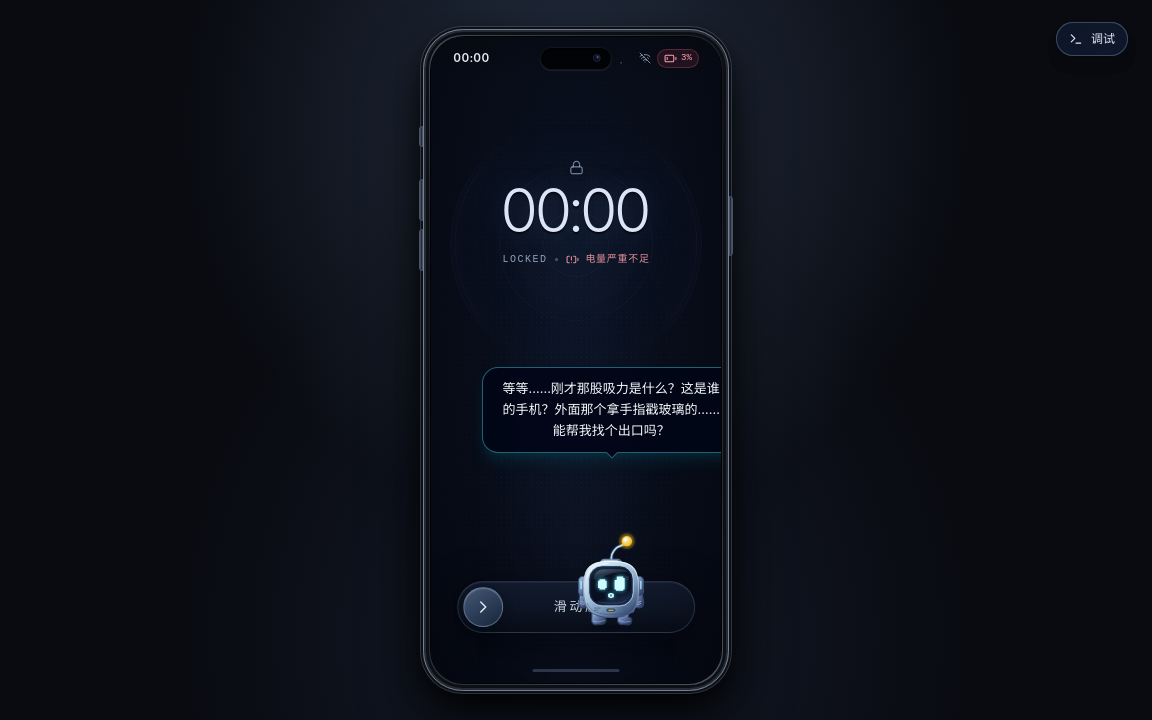
Scenario: PhoneOS pet pointer gestures › coalesces drag moves, preserves the grab offset, and releases once after the hold deadline
(page scrolled)
Press the mouse on the button with test id "pet-hitbox" at point(611, 582), box [572,535,651,629]
Wait 531 ms
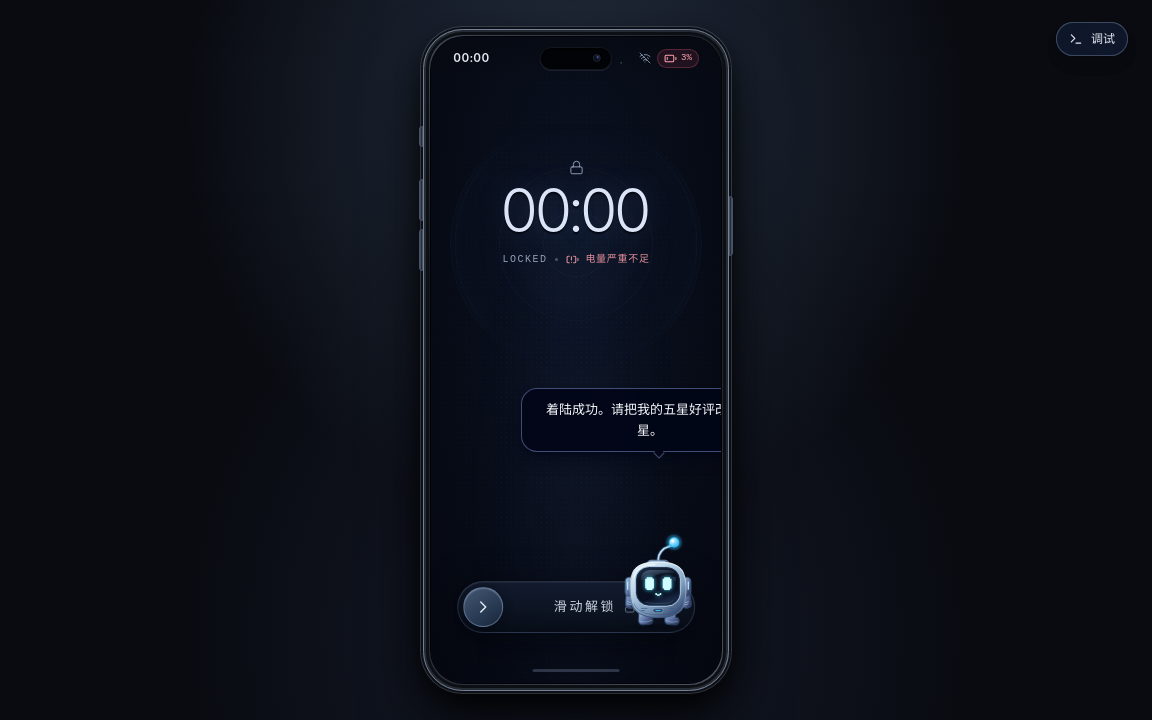
Expected: the message with test id "pet-bubble" reads "着陆成功。请把我的五星好评改成两星。", [546,401,721,438]
